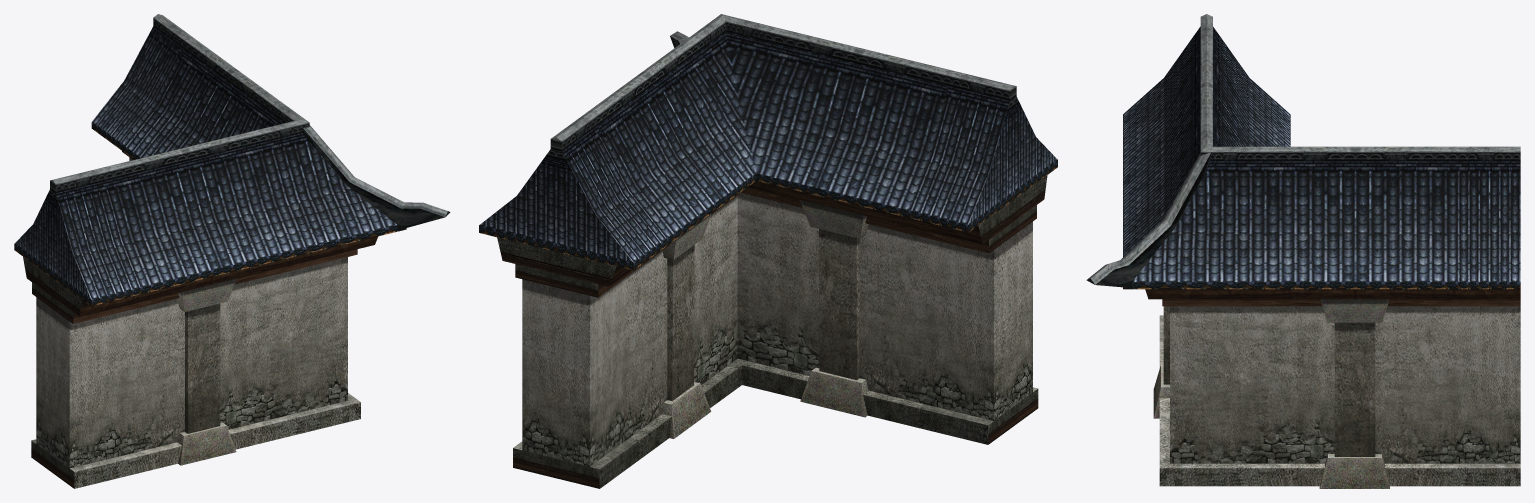
File: a1-038-wall-corner.glb
3 views of the same model, side by side, from view 1: azimuth 30°, elevation 25°; view 2: azimuth 150°, elevation 25°; view 3: azimuth 270°, elevation 25° (orthographic). The views are drawn at different scales.
Visible parts, largest first — view 1: a1-038-wall; view 2: a1-038-wall; view 3: a1-038-wall.
Part boxes in pixels (x1,y1,x2,y2): a1-038-wall: (14,14,450,488); a1-038-wall: (479,14,1057,488); a1-038-wall: (1086,14,1520,488).
Bounding box in the file's own units: 5.56 × 4.5 × 5.54.
Materials: 1 (1 with a texture image).
